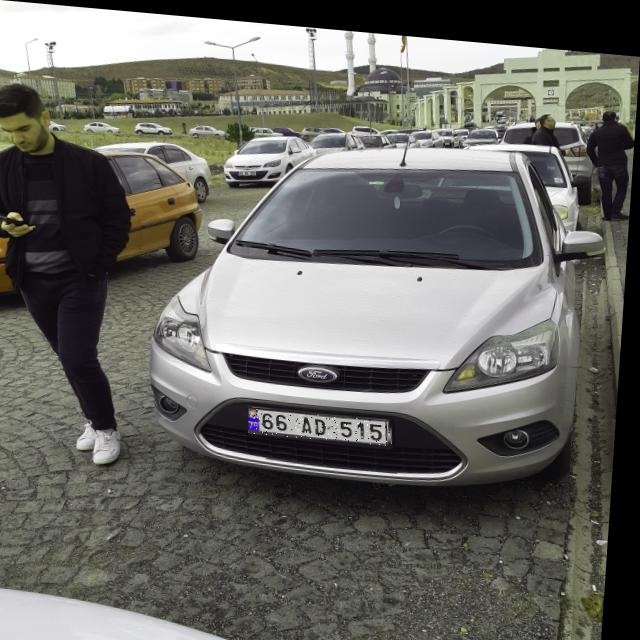license_plate: (254, 403, 397, 438)
